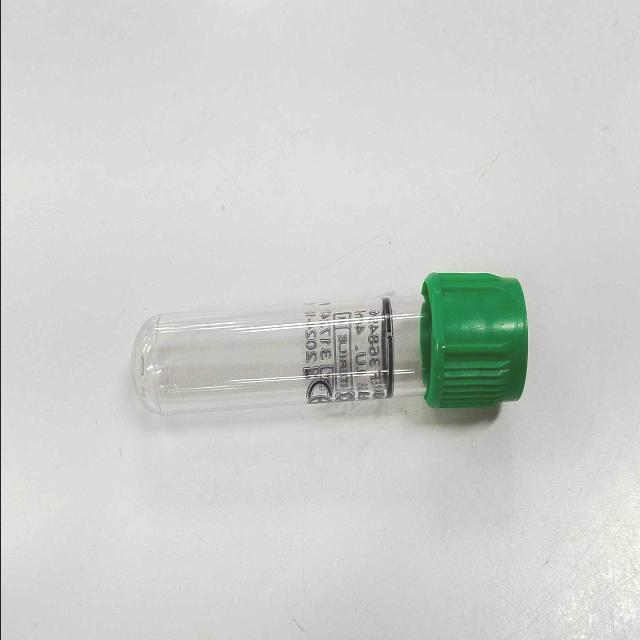General: (299, 298, 392, 406)
Sharps: (129, 269, 529, 416)
